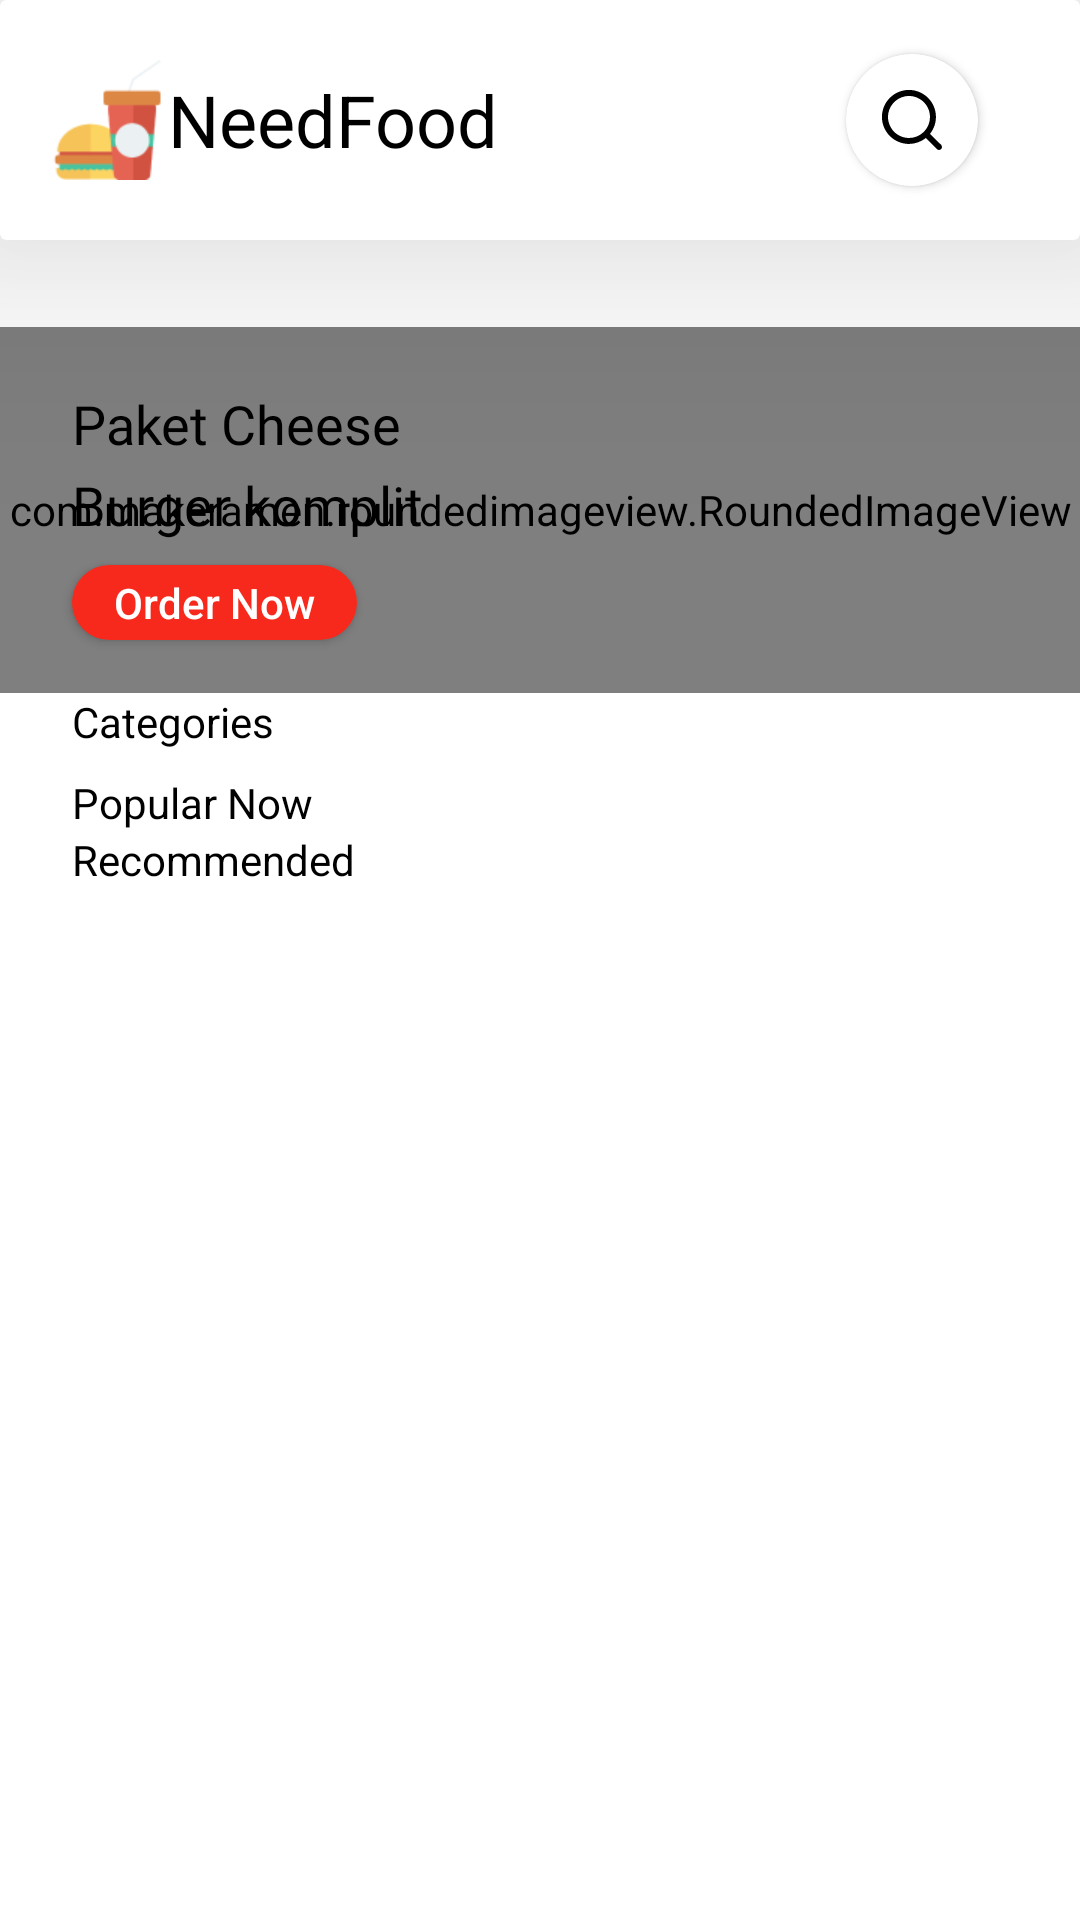

Screen size 1080w x 1920h. Icon name, then its box in pixels as (x1, y1, x2, y2):
search: (882, 61, 978, 186)
